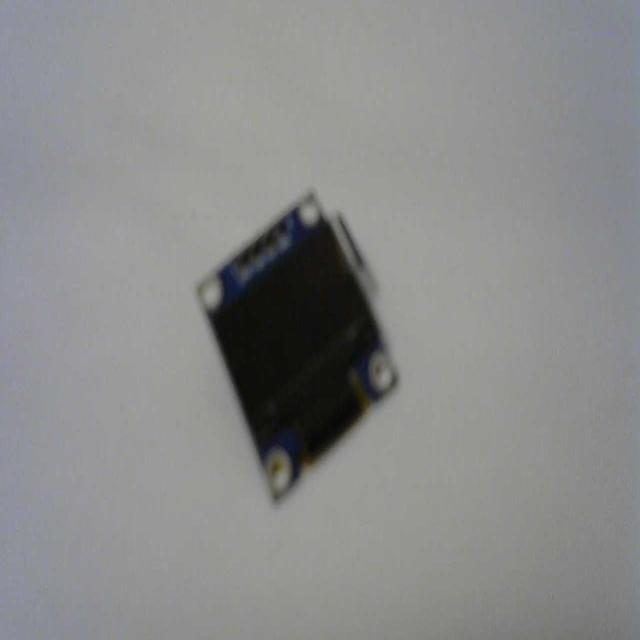oled: (195, 187, 402, 509)
